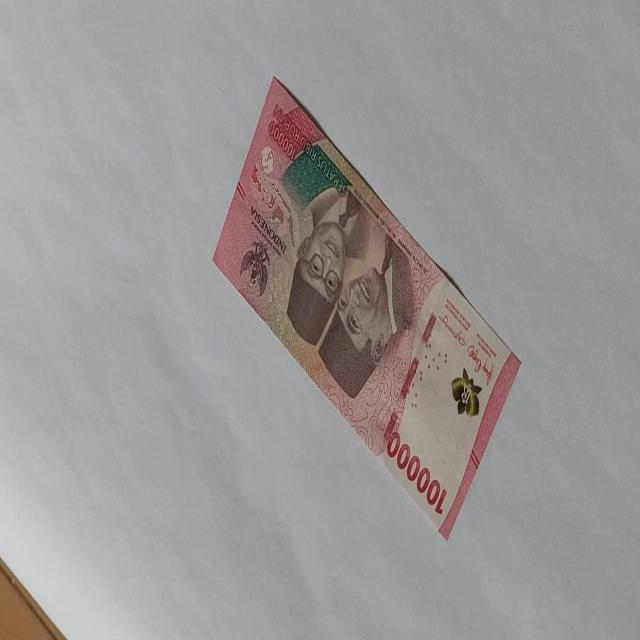seratus ribu rupiah: (212, 73, 522, 540)
